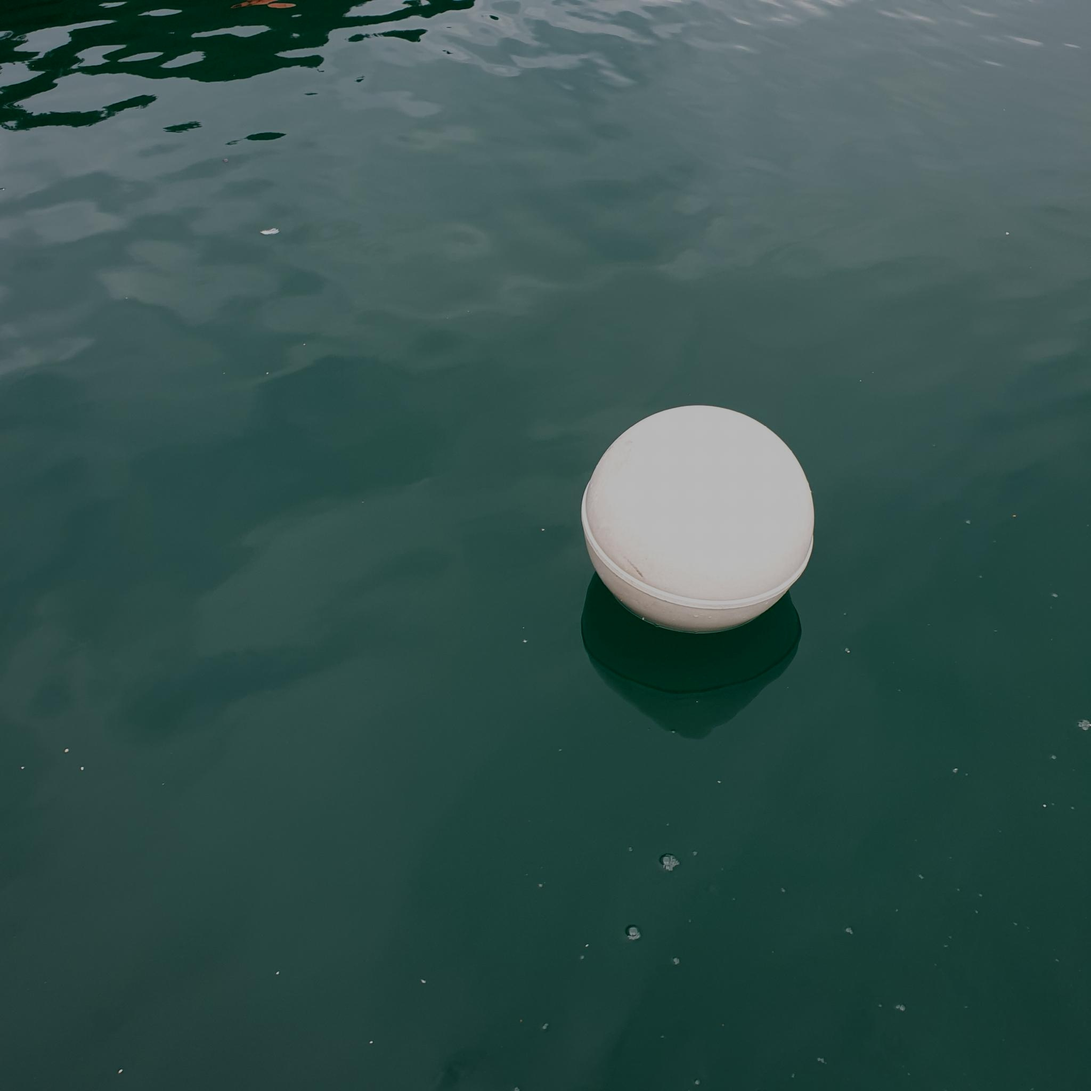sampah_terapung: (581, 406, 816, 636)
